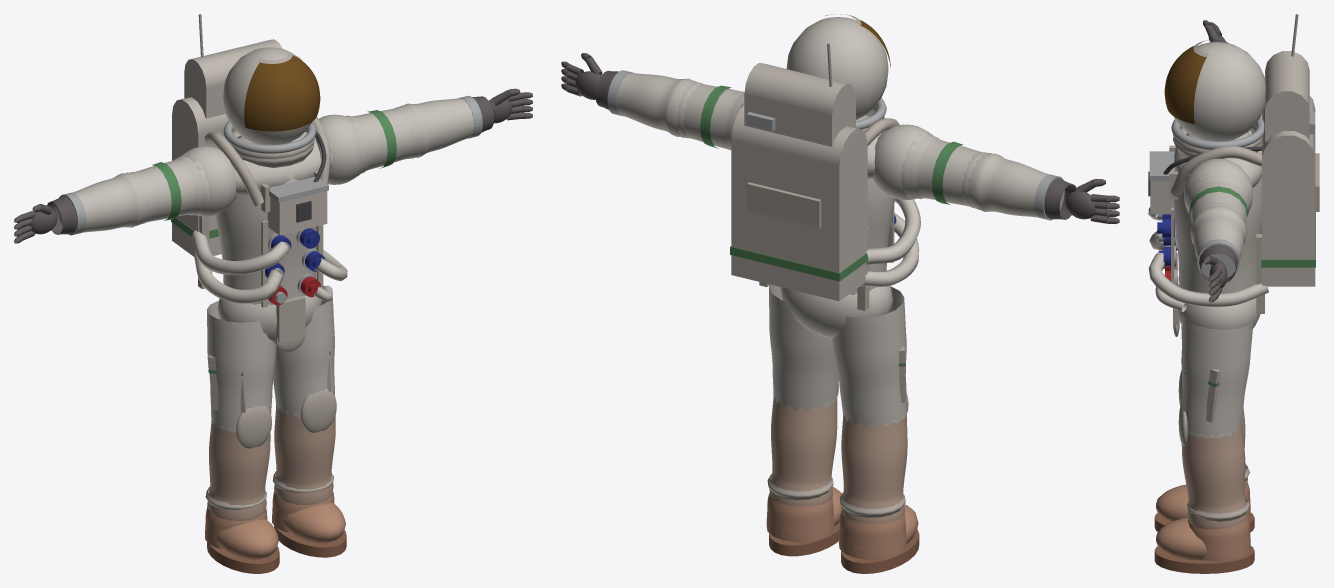
Rendered from C01_colonist_tpose_green.glb.
The picture shows the model from 3 angles, left to right: view 1: azimuth 30°, elevation 25°; view 2: azimuth 150°, elevation 25°; view 3: azimuth 270°, elevation 25°; orthographic projection. The views are drawn at different scales.
Parts seen in each view (by area): view 1: thigh (×2), shin (×2), forearm (×2), upper_arm (×2), visor, torso, shoulder (×2), boot (×2), oxygen_hose (×2), helmet_shell, knee_patch (×2), boot_sole (×2) (+14 smaller); view 2: pack_main, thigh (×2), shin (×2), forearm (×2), helmet_shell, upper_arm (×2), boot_shaft (×2), pack_upper_roll, pelvis, pack_top_roll, pack_upper_unit, oxygen_hose (×2) (+7 smaller); view 3: pack_main, thigh, helmet_shell, shin, torso, pack_upper_roll, boot (×2), visor, forearm, water_hose, pack_top_roll, upper_arm (+24 smaller).
Boxes of the visible parts, bbox=[...] form: thigh (×2): bbox=[207, 285, 334, 429]; shin (×2): bbox=[207, 404, 335, 520]; forearm (×2): bbox=[73, 98, 474, 232]; upper_arm (×2): bbox=[135, 108, 415, 222]; visor: bbox=[244, 55, 320, 131]; torso: bbox=[215, 134, 316, 305]; shoulder (×2): bbox=[182, 114, 361, 216]; boot (×2): bbox=[216, 503, 345, 559]; oxygen_hose (×2): bbox=[191, 230, 288, 304]; helmet_shell: bbox=[223, 47, 311, 144]; knee_patch (×2): bbox=[236, 389, 336, 448]; boot_sole (×2): bbox=[207, 525, 346, 573]; pack_main: bbox=[731, 140, 867, 301]; thigh (×2): bbox=[769, 284, 906, 427]; shin (×2): bbox=[769, 397, 907, 523]; forearm (×2): bbox=[616, 72, 1048, 217]; helmet_shell: bbox=[786, 17, 888, 119]; upper_arm (×2): bbox=[680, 83, 981, 206]; boot_shaft (×2): bbox=[766, 492, 906, 559]; pack_upper_roll: bbox=[744, 63, 855, 127]; pelvis: bbox=[780, 286, 892, 338]; pack_top_roll: bbox=[731, 106, 867, 176]; pack_upper_unit: bbox=[744, 94, 855, 146]; oxygen_hose (×2): bbox=[860, 198, 920, 287]; pack_main: bbox=[1262, 159, 1315, 286]; thigh: bbox=[1181, 317, 1253, 436]; helmet_shell: bbox=[1173, 42, 1265, 141]; shin: bbox=[1181, 424, 1247, 529]; torso: bbox=[1174, 132, 1261, 293]; pack_upper_roll: bbox=[1265, 51, 1309, 130]; boot (×2): bbox=[1156, 484, 1249, 560]; visor: bbox=[1164, 43, 1206, 123]; forearm: bbox=[1190, 205, 1246, 258]; water_hose: bbox=[1148, 252, 1268, 306]; pack_top_roll: bbox=[1262, 96, 1315, 182]; upper_arm: bbox=[1185, 171, 1251, 224].
Bounding box in the file's own units: 2.17 × 2.02 × 0.6101.
